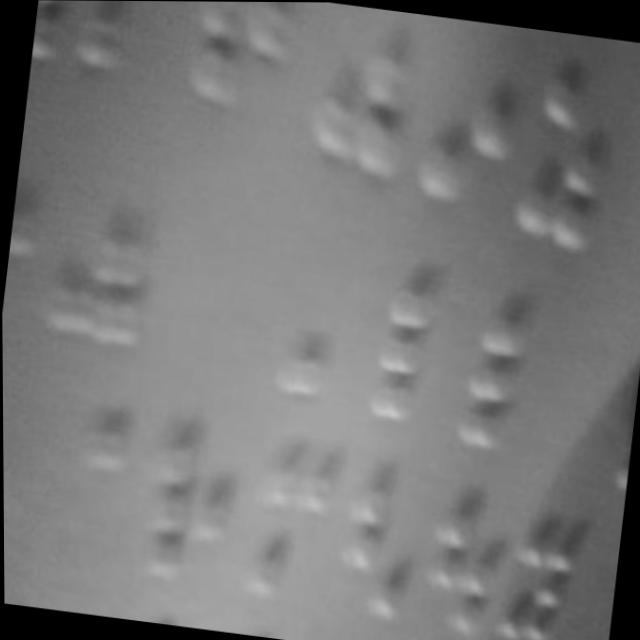braiile: (508, 57, 625, 259), (413, 21, 523, 217), (302, 2, 415, 176), (131, 415, 240, 590), (367, 277, 473, 436), (331, 470, 434, 633), (457, 307, 563, 462), (272, 255, 371, 414), (241, 456, 340, 608), (413, 483, 506, 640), (490, 517, 576, 640)
